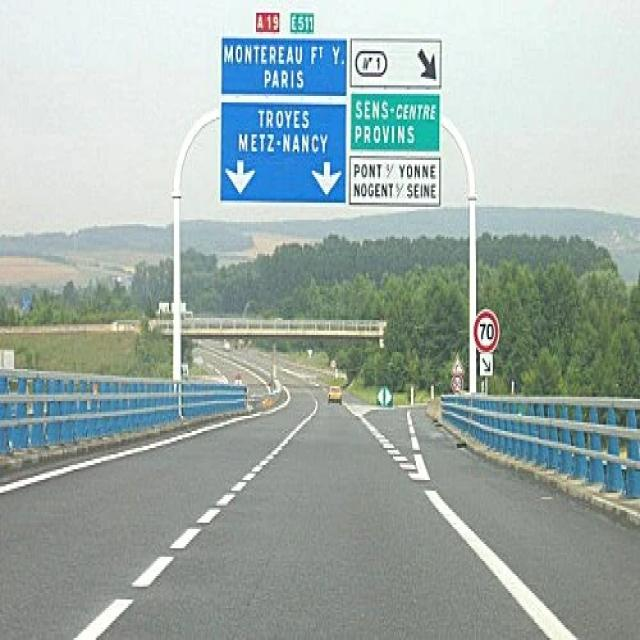direction: (220, 98, 346, 208), (220, 29, 348, 101), (345, 86, 442, 156), (348, 156, 444, 210)
speed_70: (471, 308, 501, 356)
